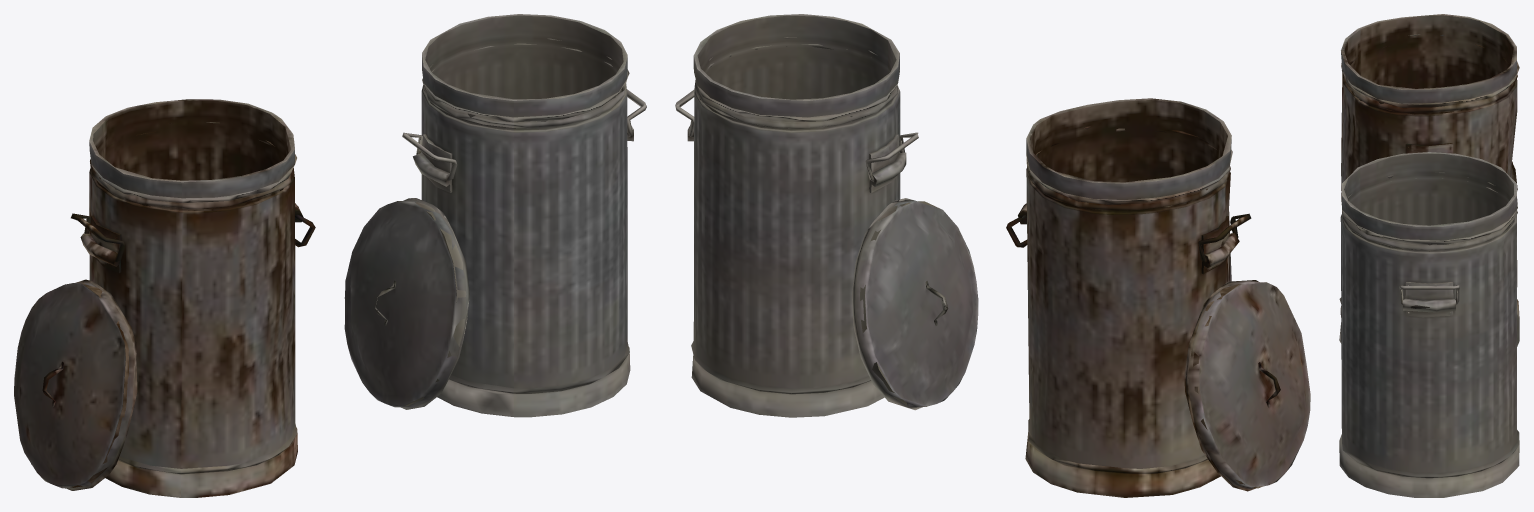
The model's file is metal_trash_can.glb.
The picture shows the model from 3 angles, left to right: view 1: azimuth 30°, elevation 25°; view 2: azimuth 150°, elevation 25°; view 3: azimuth 270°, elevation 25°; orthographic projection. The views are drawn at different scales.
Visible parts, largest first — view 1: metal_trash_can, metal_trash_can_rust, metal_trash_can_lid, metal_trash_can_rust_lid; view 2: metal_trash_can, metal_trash_can_rust, metal_trash_can_lid, metal_trash_can_rust_lid; view 3: metal_trash_can, metal_trash_can_rust, metal_trash_can_handle_right.
Boxes of the visible parts, x1,y1,x2,y2 form: metal_trash_can: [413, 14, 633, 417]; metal_trash_can_rust: [80, 99, 303, 497]; metal_trash_can_lid: [344, 198, 469, 409]; metal_trash_can_rust_lid: [14, 279, 137, 490]; metal_trash_can: [687, 14, 906, 417]; metal_trash_can_rust: [1018, 98, 1239, 497]; metal_trash_can_lid: [852, 198, 978, 410]; metal_trash_can_rust_lid: [1184, 280, 1310, 491]; metal_trash_can: [1339, 152, 1519, 497]; metal_trash_can_rust: [1339, 14, 1519, 318]; metal_trash_can_handle_right: [1399, 285, 1459, 304].
Size of the model in its own units: 1.78 by 0.9062 by 0.548.
2 materials, 2 textured.
